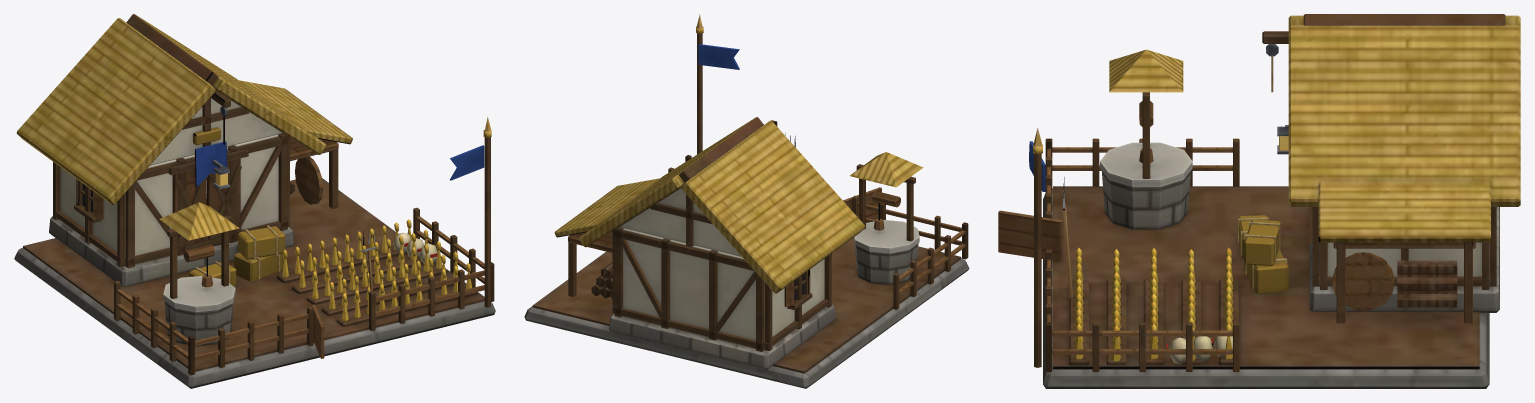
File: farm.glb
3 views of the same model, side by side, from view 1: azimuth 30°, elevation 25°; view 2: azimuth 150°, elevation 25°; view 3: azimuth 270°, elevation 25° (orthographic). The views are drawn at different scales.
Parts seen in each view (by area): view 1: Static_Mesh, Anim_Banners; view 2: Static_Mesh, Anim_Banners; view 3: Static_Mesh.
Boxes of the visible parts, x1,y1,x2,y2 form: Static_Mesh: [14, 14, 495, 388]; Anim_Banners: [195, 141, 484, 187]; Static_Mesh: [524, 14, 969, 388]; Anim_Banners: [698, 44, 739, 69]; Static_Mesh: [998, 14, 1520, 388].
Size of the model in its own units: 5.96 by 3.91 by 6.98.
2 materials, 2 textured.
